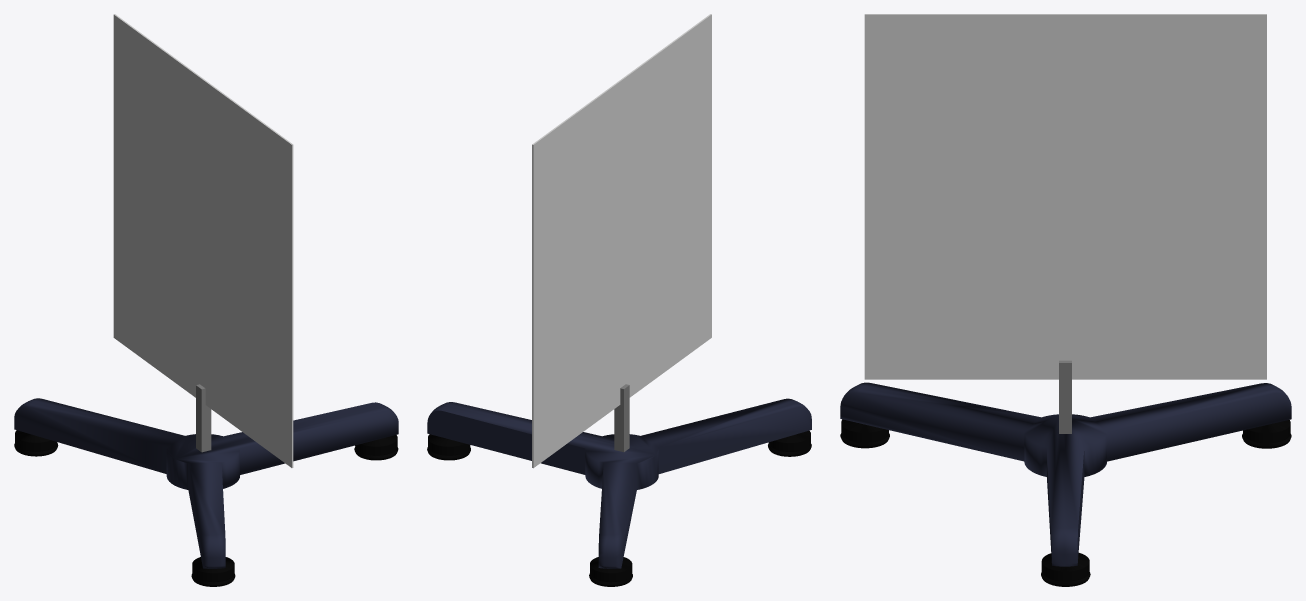
File: Pantalla.fbx
3 renders of one model, left to right at view 1: azimuth 30°, elevation 25°; view 2: azimuth 150°, elevation 25°; view 3: azimuth 270°, elevation 25°, orthographic. The views are drawn at different scales.
Parts seen in each view (by area): view 1: Pantalla; view 2: Pantalla; view 3: Pantalla.
Part boxes in pixels (x1,y1,x2,y2): Pantalla: [14, 14, 398, 586]; Pantalla: [427, 14, 811, 586]; Pantalla: [840, 14, 1291, 586].
Size of the model in its own units: 159 by 218 by 190.
